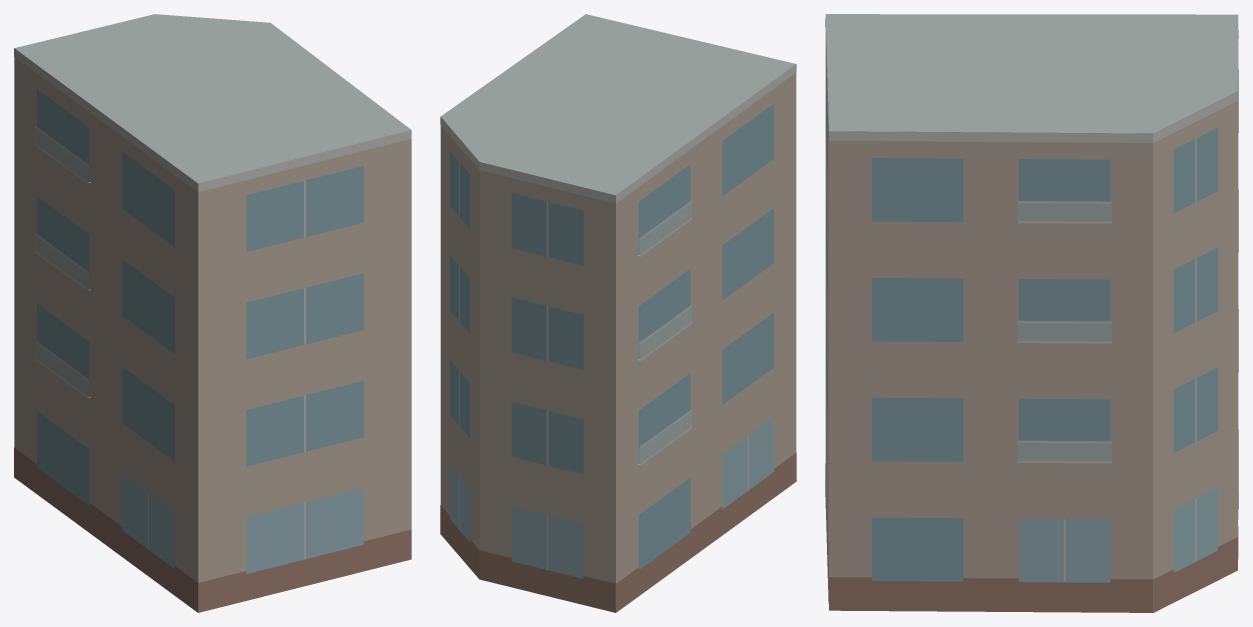
Rendered from survey-upis-32636545.glb.
3 views of the same model, side by side, from view 1: azimuth 30°, elevation 25°; view 2: azimuth 150°, elevation 25°; view 3: azimuth 270°, elevation 25° (orthographic). The views are drawn at different scales.
Parts seen in each view (by area): view 1: survey-upis-32636545.tmp; view 2: survey-upis-32636545.tmp; view 3: survey-upis-32636545.tmp.
Boxes of the visible parts, x1,y1,x2,y2 form: survey-upis-32636545.tmp: [14, 14, 411, 612]; survey-upis-32636545.tmp: [440, 14, 796, 612]; survey-upis-32636545.tmp: [825, 14, 1238, 612].
Bounding box in the file's own units: 6.57 × 12.2 × 9.53.
